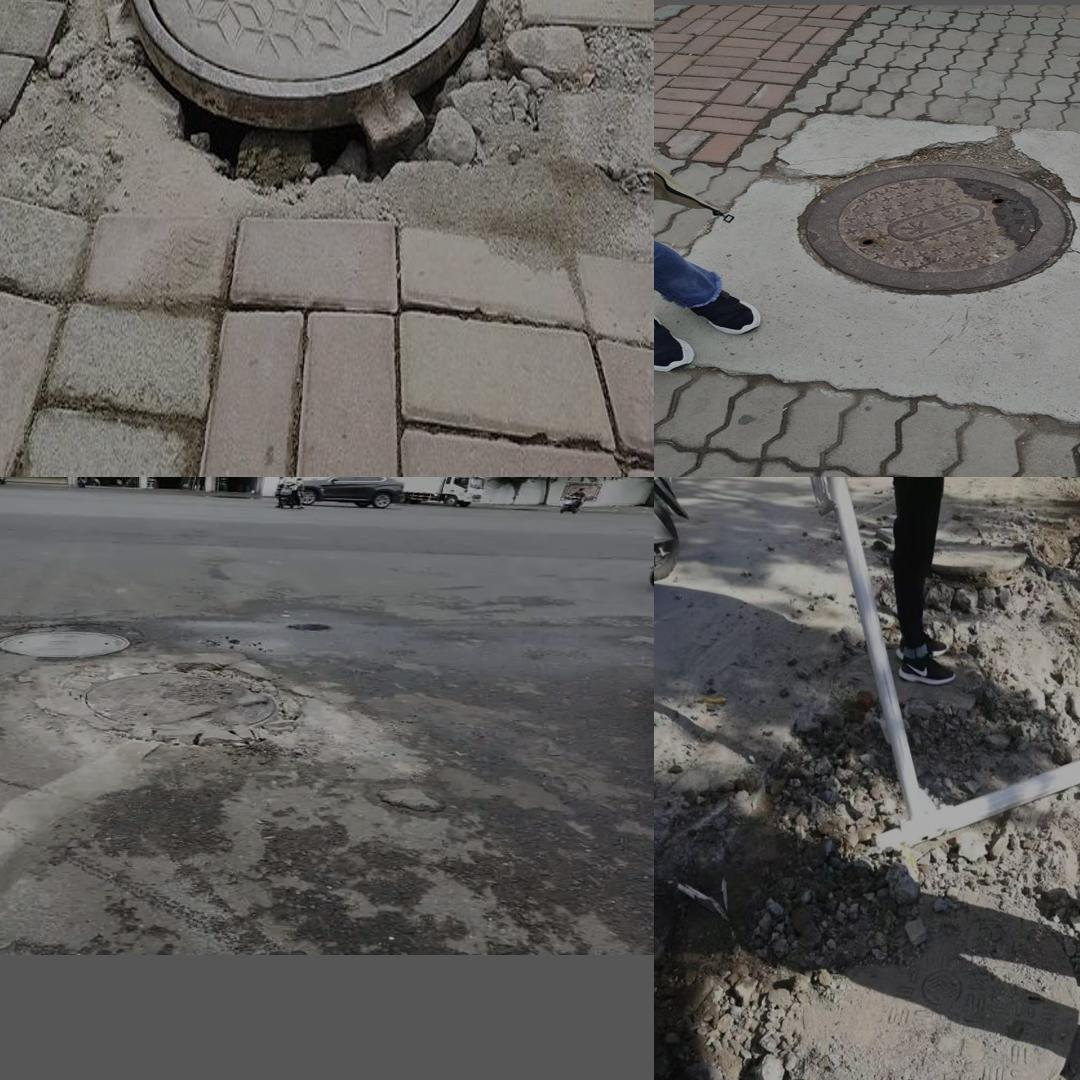circle: (0, 0, 586, 217), (749, 885, 1080, 1080), (744, 131, 1080, 316), (40, 653, 372, 787)
